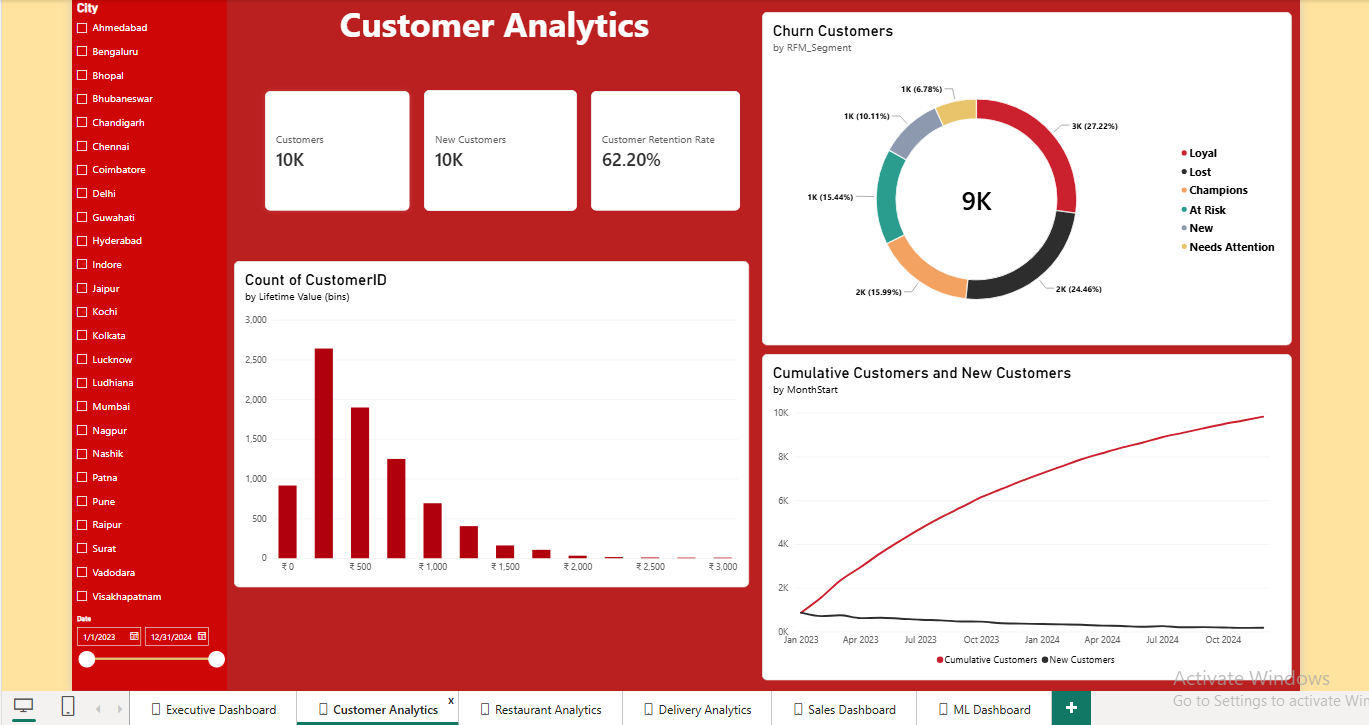

The page's visual inventory and layout, read from the dashboard file:
{"tool":"powerbi","page":{"name":"Customer Analytics","canvas":[1920,1080],"ordinal":1},"visuals":[{"type":"cardVisual","fields":{"Data":["_Measures.Customers"]},"box":[290.1,130.7,248.1,209.9],"z":0,"group":"g1"},{"type":"slicer","fields":{"Values":["Date.Date"]},"box":[0,961.9,242.4,116.4],"z":0},{"type":"slicer","fields":{"Values":["Cities.City"]},"box":[0,0,242.4,961.9],"z":1000},{"type":"cardVisual","fields":{"Data":["_Measures.Customer Retention Rate"]},"box":[799.7,130.7,255.7,209.9],"z":1000,"group":"g1"},{"type":"donutChart","fields":{"Category":["ChurnScores.RFM_Segment"],"Y":["_Measures.Churn Customers"]},"box":[1078.3,19.1,828.3,521],"z":2000},{"type":"cardVisual","fields":{"Data":["_Measures.New Customers"]},"box":[539.1,129.8,261.5,211.8],"z":2000,"group":"g1"},{"type":"lineChart","fields":{"Category":["Date.MonthStart"],"Y":["_Measures.Cumulative Customers","_Measures.New Customers"]},"box":[1078.3,553.5,828.3,509.6],"z":3000},{"type":"columnChart","fields":{"Category":["Customers.Lifetime Value (bins)"],"Y":["CountNonNull(Customers.CustomerID)"]},"box":[253.8,408.4,805.4,509.6],"z":4000},{"type":"textbox","box":[242.4,0,835.9,95.4],"z":5000},{"type":"group","id":"g1","title":"Group 1","box":[290.1,129.8,765.3,211.8],"z":6000}]}

Visuals, with their boxes on the page's 1920x1080 design canvas (x1, y1, x2, y2). These are canvas units, not pixel positions in the 1369x725 screenshot, which may show the page scaled, cropped or inside an application window:
cardVisual - _Measures.Customers: locate(290, 131, 538, 341)
slicer - Date.Date: locate(0, 962, 242, 1078)
slicer - Cities.City: locate(0, 0, 242, 962)
cardVisual - _Measures.Customer Retention Rate: locate(800, 131, 1055, 341)
donutChart - ChurnScores.RFM_Segment x _Measures.Churn Customers: locate(1078, 19, 1907, 540)
cardVisual - _Measures.New Customers: locate(539, 130, 801, 342)
lineChart - Date.MonthStart x _Measures.Cumulative Customers: locate(1078, 554, 1907, 1063)
columnChart - Customers.Lifetime Value (bins) x CountNonNull(Customers.CustomerID): locate(254, 408, 1059, 918)
textbox: locate(242, 0, 1078, 95)
"Group 1" group: locate(290, 130, 1055, 342)
